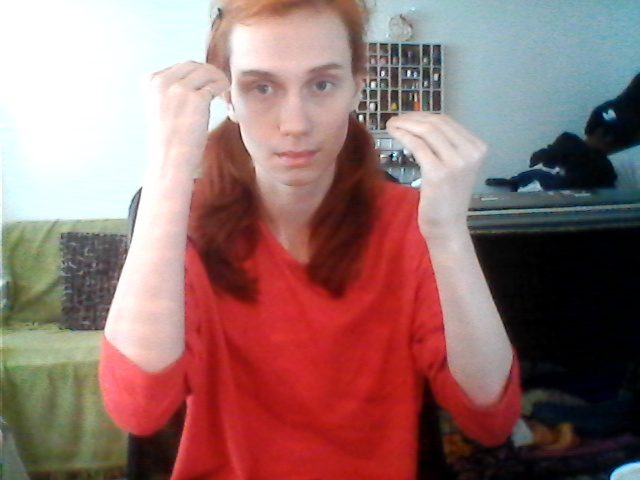ucit: (149, 46, 494, 161)
